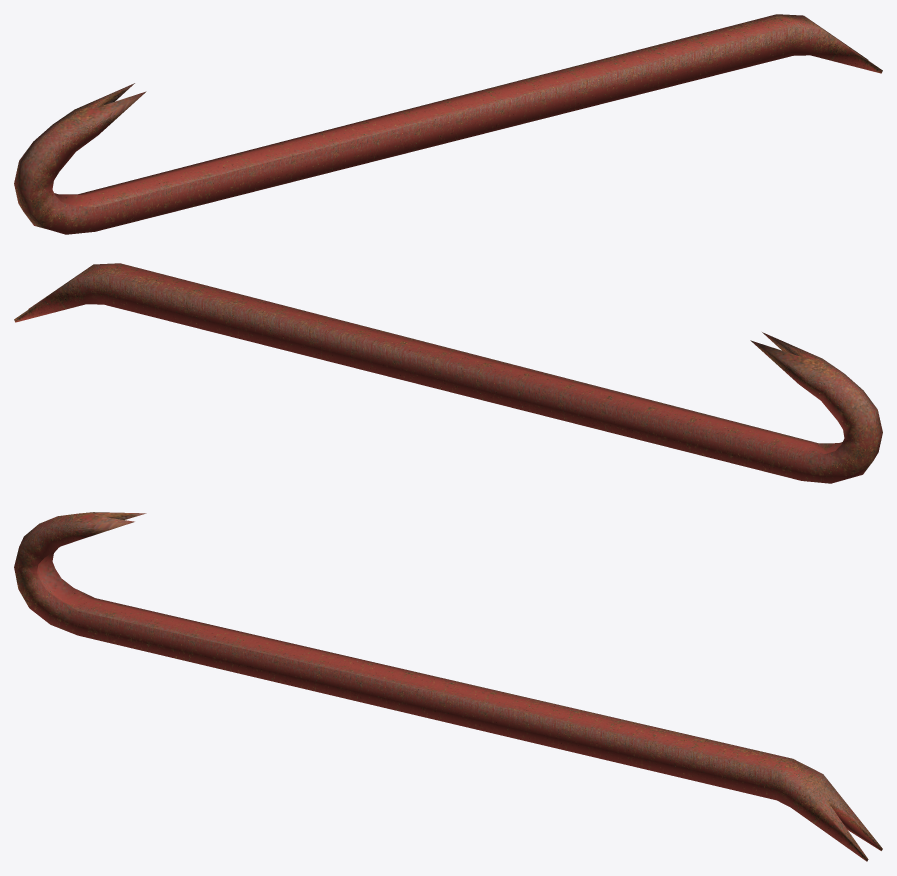
The model's file is Crowbar.fbx.
3 renders of one model, top to bottom at view 1: azimuth 30°, elevation 25°; view 2: azimuth 150°, elevation 25°; view 3: azimuth 330°, elevation 25°, orthographic.
Parts seen in each view (by area): view 1: Cube; view 2: Cube; view 3: Cube.
Boxes of the visible parts, left/top/right/bottom form: Cube: left=14, top=14, right=882, bottom=234; Cube: left=14, top=263, right=882, bottom=483; Cube: left=14, top=512, right=882, bottom=861.
Bounding box in the file's own units: 41204 × 7359 × 1622.
Materials: 1 (1 with a texture image).
